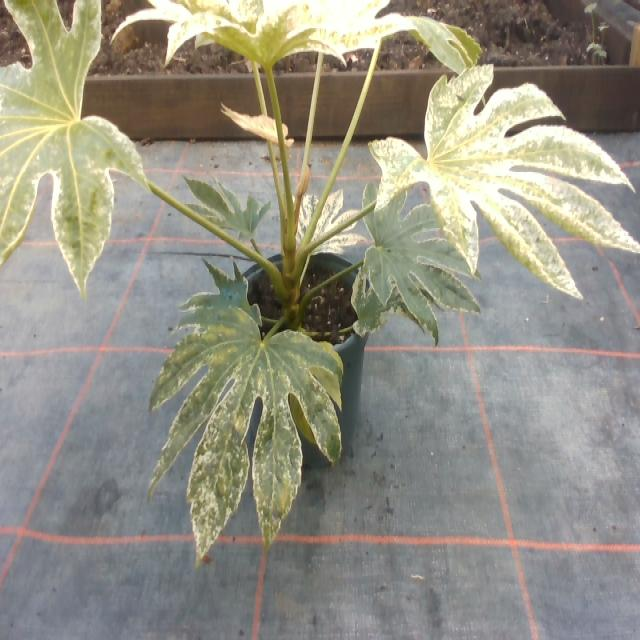Fatsia-japonica: (363, 62, 640, 302), (159, 275, 348, 558), (0, 0, 147, 297), (356, 161, 474, 353), (264, 2, 480, 68), (120, 0, 302, 77), (289, 180, 362, 277), (182, 268, 265, 338), (190, 167, 262, 246), (216, 93, 292, 145)
